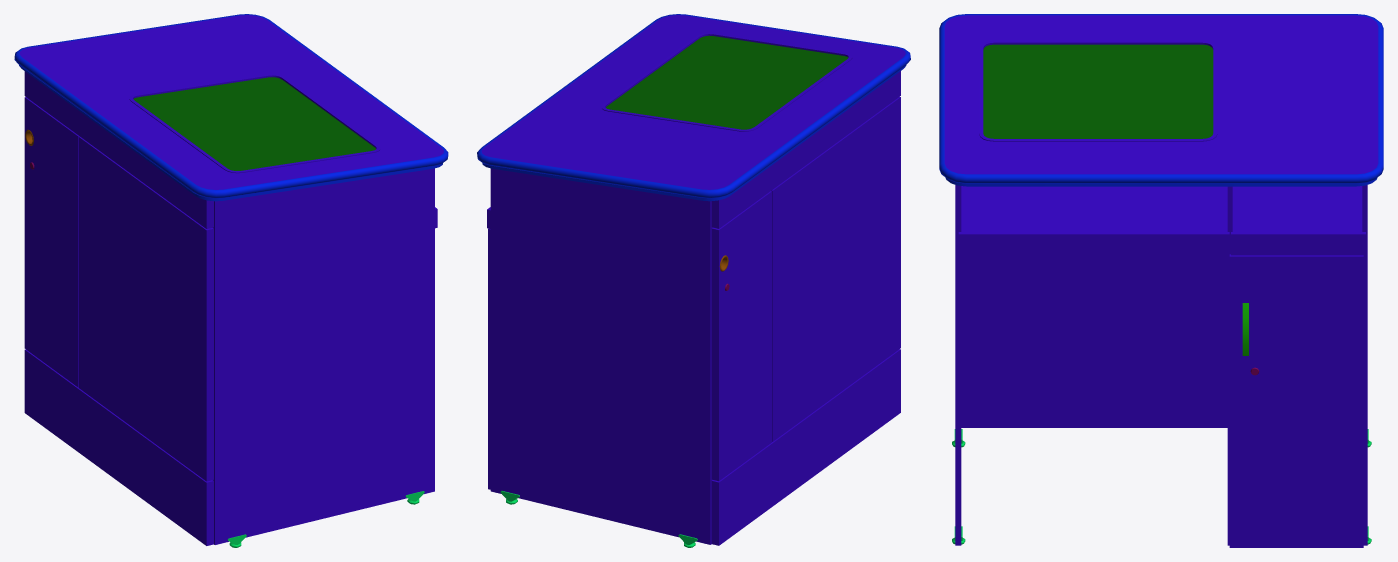
Rendered from table3.fbx.
3 views of the same model, side by side, from view 1: azimuth 30°, elevation 25°; view 2: azimuth 150°, elevation 25°; view 3: azimuth 270°, elevation 25° (orthographic). The views are drawn at different scales.
Parts seen in each view (by area): view 1: Object115; view 2: Object115; view 3: Object115.
Boxes of the visible parts, x1=… form: Object115: x1=14, y1=14, x2=448, y2=547; Object115: x1=477, y1=14, x2=910, y2=547; Object115: x1=939, y1=14, x2=1383, y2=547.
Bounding box in the file's own units: 0.7283 × 1.01 × 0.9882.
